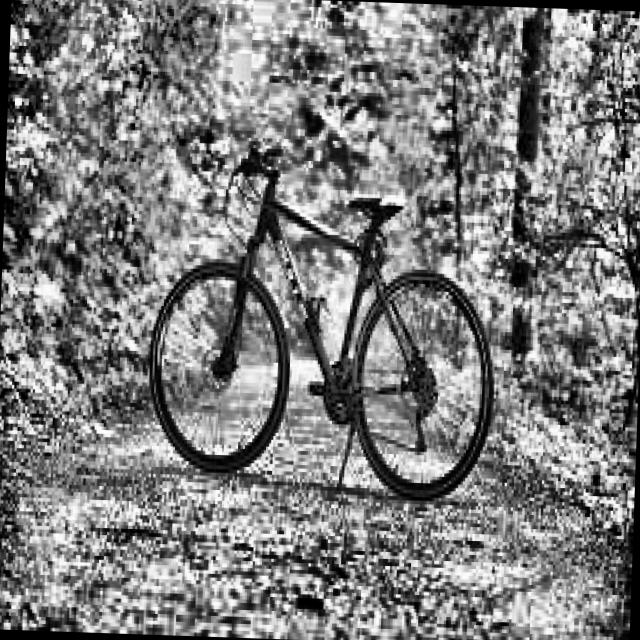bicycle: (141, 128, 509, 508)
